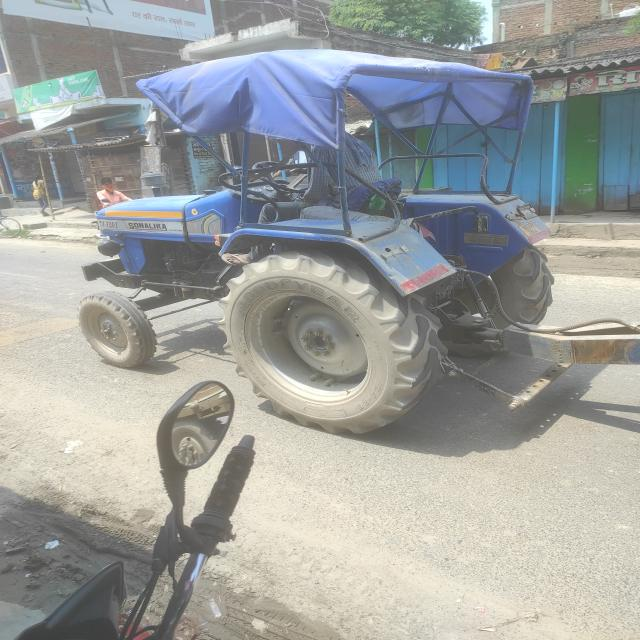tractor: (73, 47, 640, 423)
